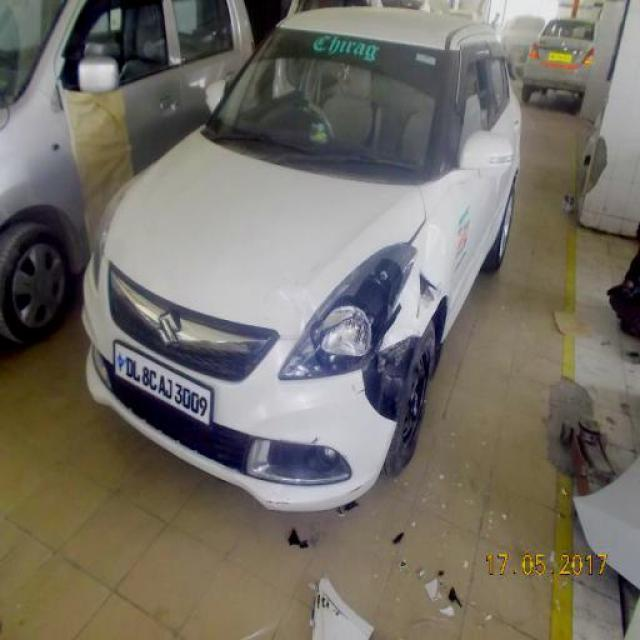Car-Damage: (361, 332, 423, 428), (416, 269, 443, 320)
